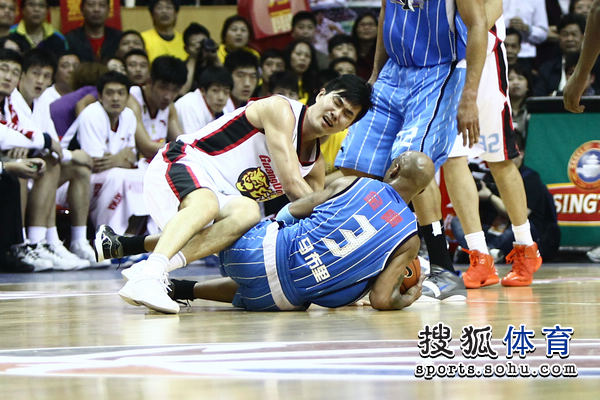10+: (1, 1, 600, 320)
down: (116, 75, 376, 303), (194, 146, 446, 312)
